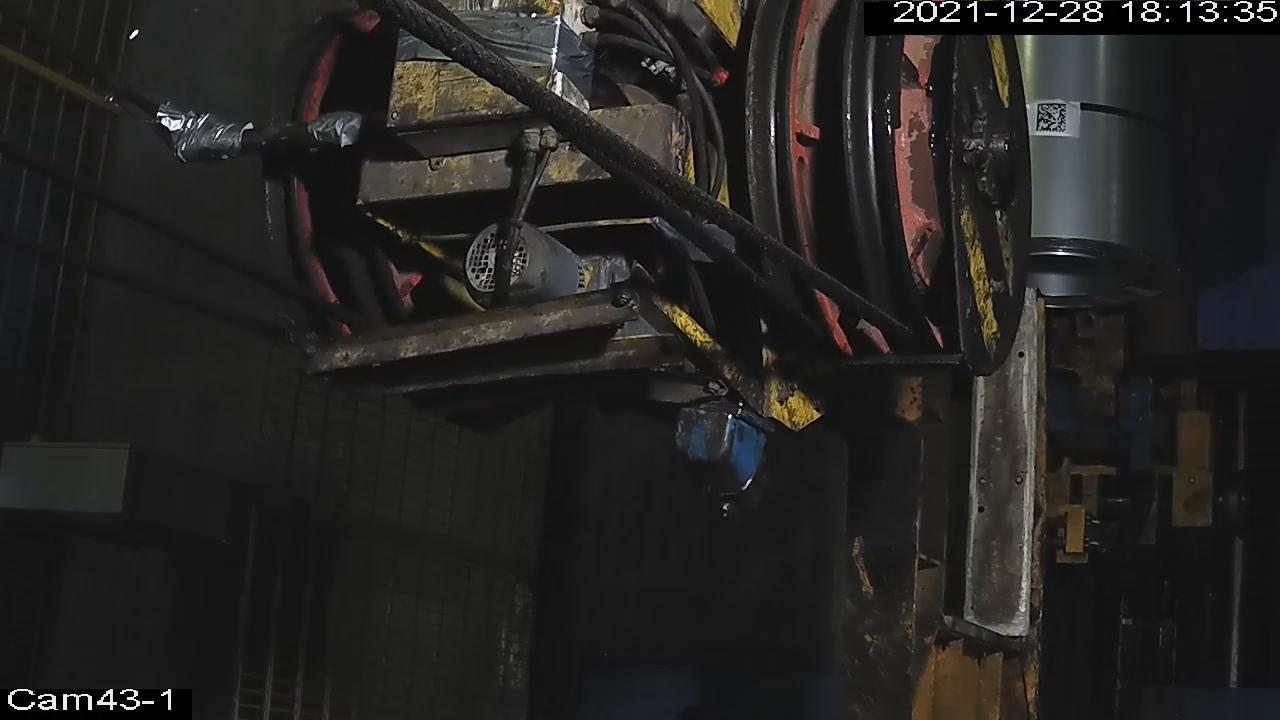data matrix: (1036, 101, 1070, 137)
